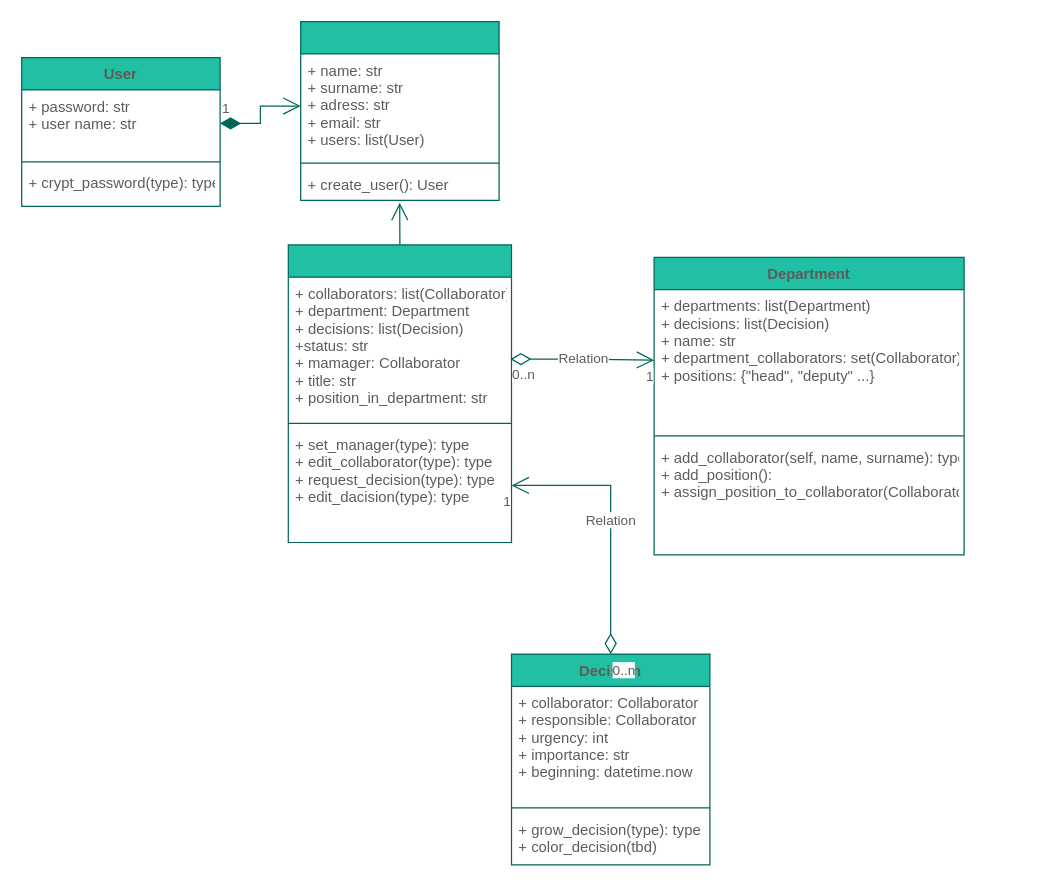
Image size: 1053x890. Some labels were removed from this diagram. Each missing label, with the box of its shape:
Collaborator(Person): (287, 244, 512, 542)
Person: (299, 20, 499, 200)
